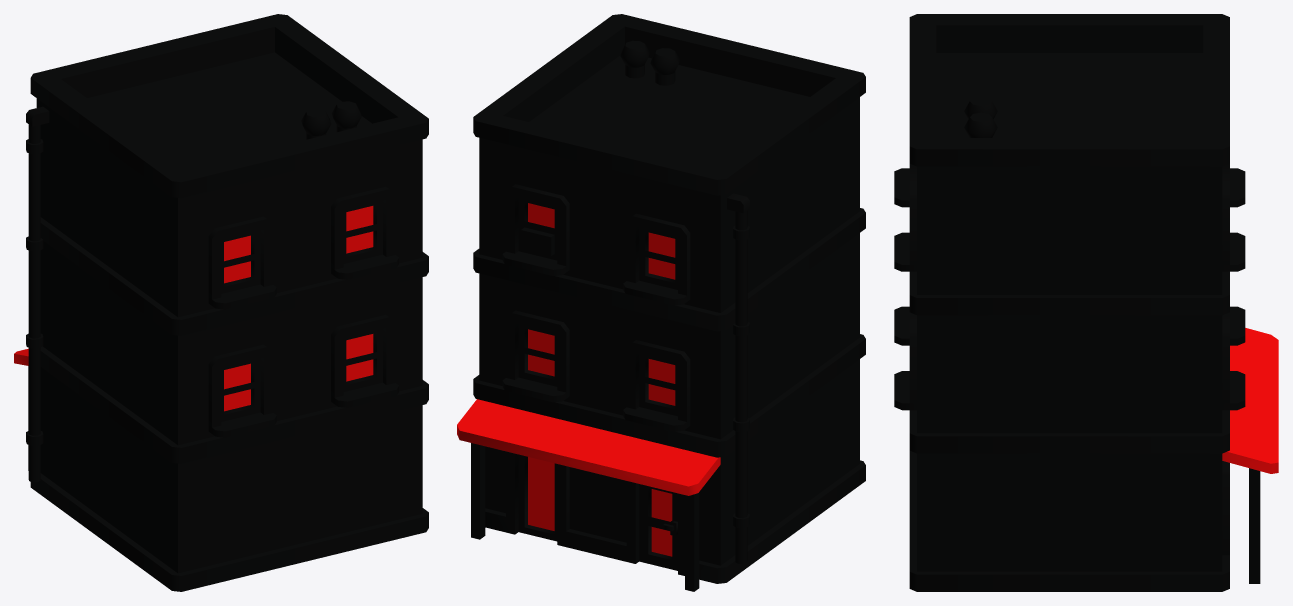
The model's file is building-h.glb.
The picture shows the model from 3 angles, left to right: view 1: azimuth 30°, elevation 25°; view 2: azimuth 150°, elevation 25°; view 3: azimuth 270°, elevation 25°; orthographic projection. The views are drawn at different scales.
Parts seen in each view (by area): view 1: building-h; view 2: building-h; view 3: building-h.
Part boxes in pixels (x1,y1,x2,y2): building-h: (14,14,428,591); building-h: (457,14,865,591); building-h: (894,14,1278,591).
Size of the model in its own units: 0.8837 by 1.29 by 1.01.
1 material, 1 textured.
